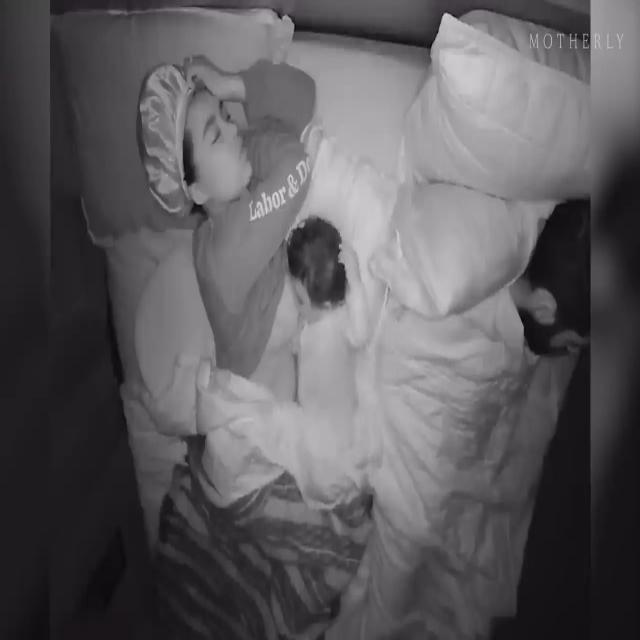baby: (285, 201, 372, 419)
